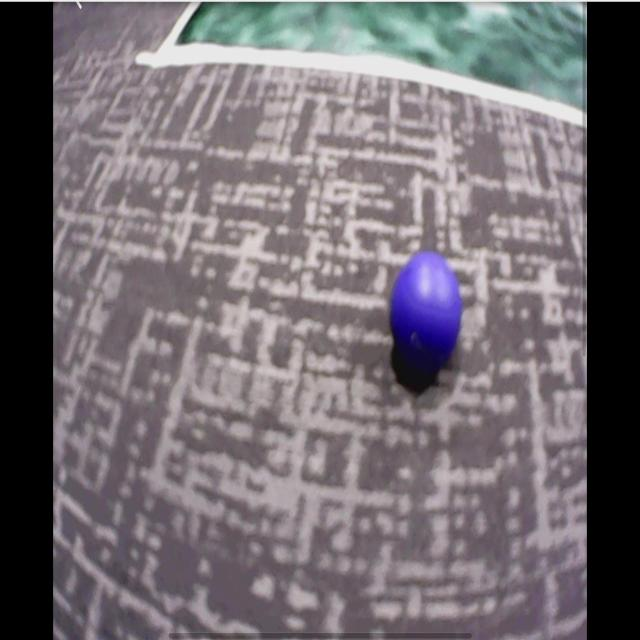ball: (390, 254, 462, 364)
